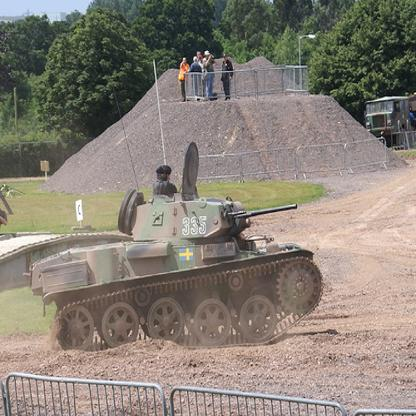Tank: (39, 141, 326, 360)
